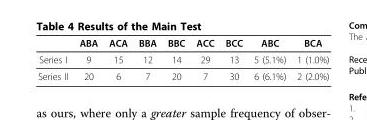table: (37, 36, 328, 81)
table column: (247, 36, 290, 81), (290, 36, 328, 81), (37, 36, 73, 81), (102, 36, 132, 81), (189, 36, 219, 81), (73, 36, 102, 81), (132, 36, 161, 81), (161, 36, 189, 81), (219, 36, 247, 81)
table column header: (37, 36, 328, 50)
table row: (37, 50, 328, 67), (37, 36, 328, 50), (37, 67, 328, 81)
